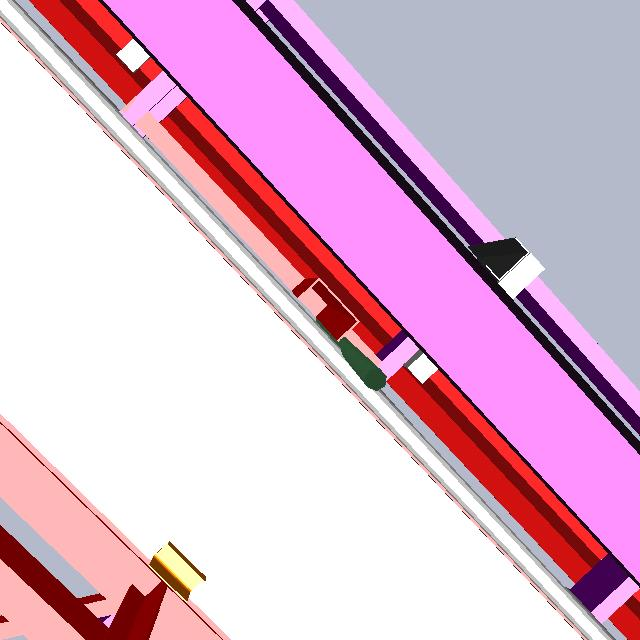Poste: (332, 331, 394, 399)
Soporte: (282, 272, 362, 358)
